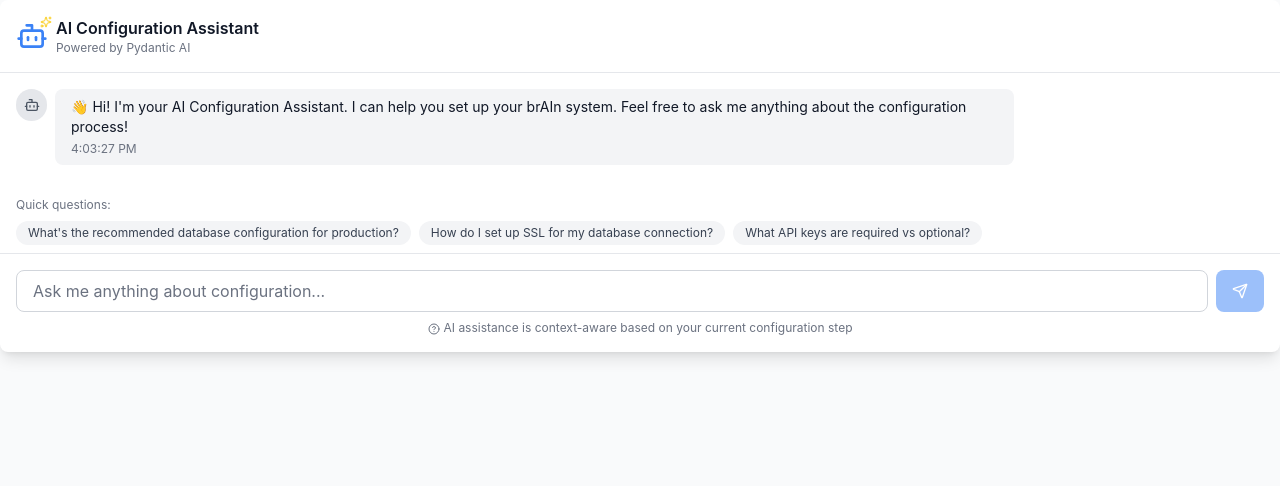
Test: ConfigAssistant › Response Content › should provide testing guidance
Step 1. Type "test" into the field with placeholder "Ask me anything about configuration..." → x=612, y=291, box left=16, top=270, right=1208, bottom=312
Then press Enter
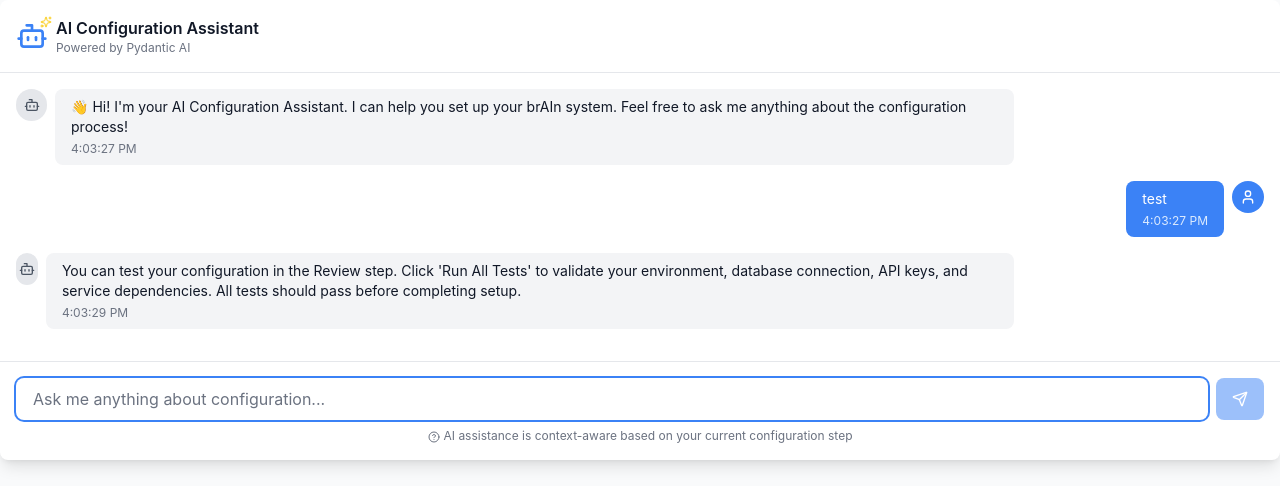
Check: the text "Review step" is shown, box left=62, top=262, right=972, bottom=299
